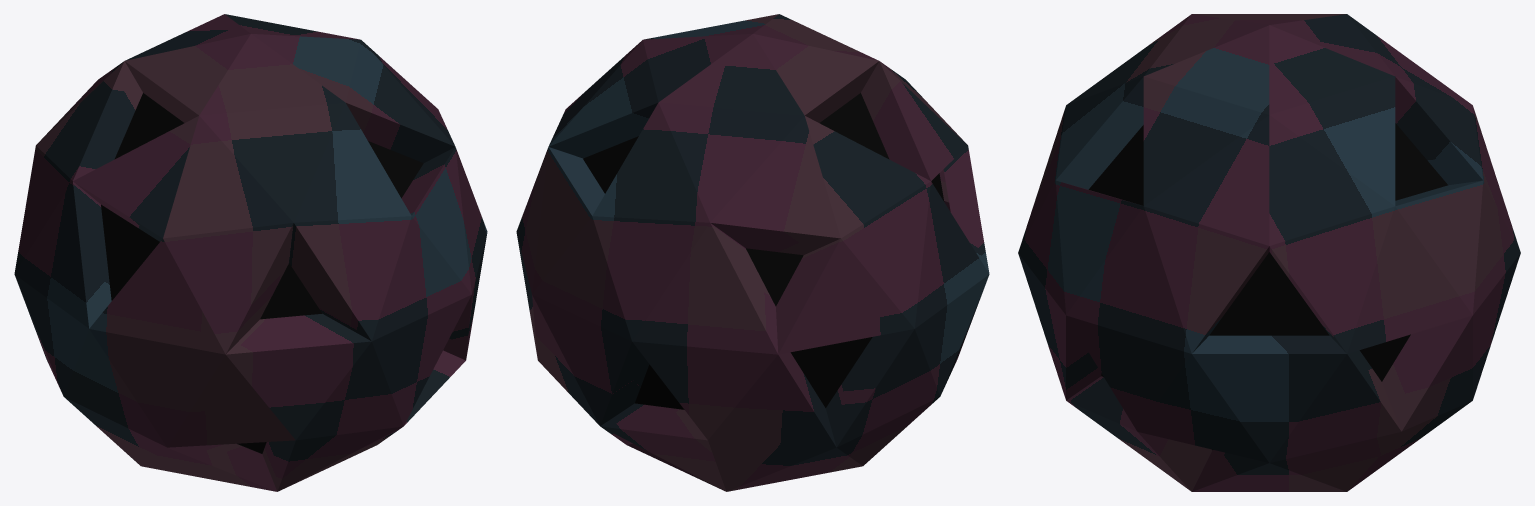
The model's file is asteroid4.fbx.
3 views of the same model, side by side, from view 1: azimuth 30°, elevation 25°; view 2: azimuth 150°, elevation 25°; view 3: azimuth 270°, elevation 25° (orthographic). The views are drawn at different scales.
Parts seen in each view (by area): view 1: Icosphere; view 2: Icosphere; view 3: Icosphere.
Boxes of the visible parts, x1,y1,x2,y2 form: Icosphere: (14,14,487,491); Icosphere: (516,14,989,491); Icosphere: (1018,14,1520,491).
Bounding box in the file's own units: 190 × 200 × 200.
1 material, 1 textured.
